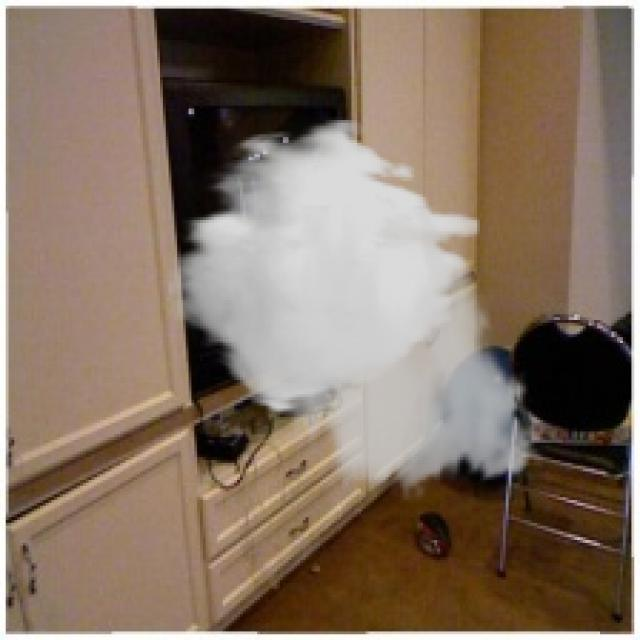Smoke: (168, 117, 552, 503)
